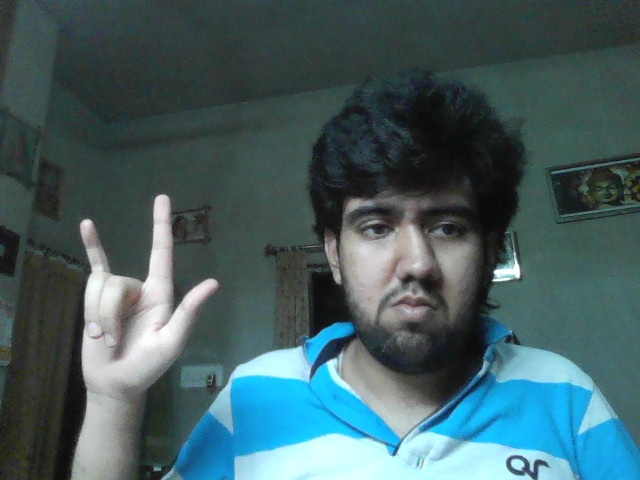ILoveYou: (79, 193, 220, 397)
